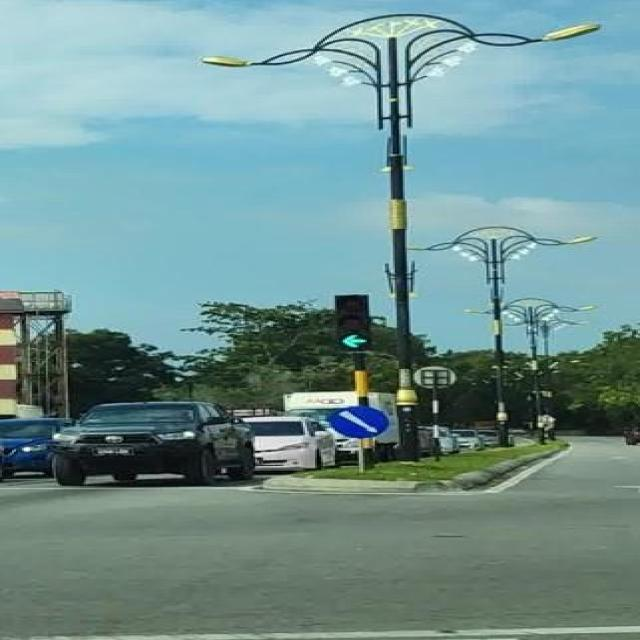Green: (333, 294, 369, 351)
